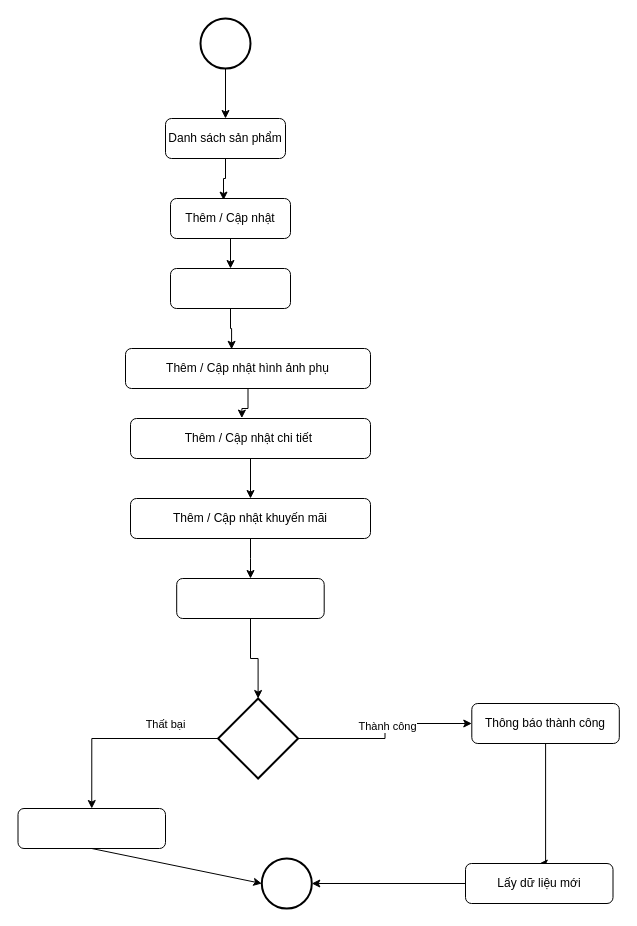
The diagram is 637 pixels wide and 926 high, and some of its shapes have lost their labels. The shapes that lost their labels are listed below. From the top down, each one's centre as x and y in pixels, then its label:
point 230,288: Nhập dữ liệu
point 250,598: Lưu dữ liệu(sản phẩm, chi tiết, hình ảnh phụ, khuyến mãi)
point 91,828: Thông báo lỗi
